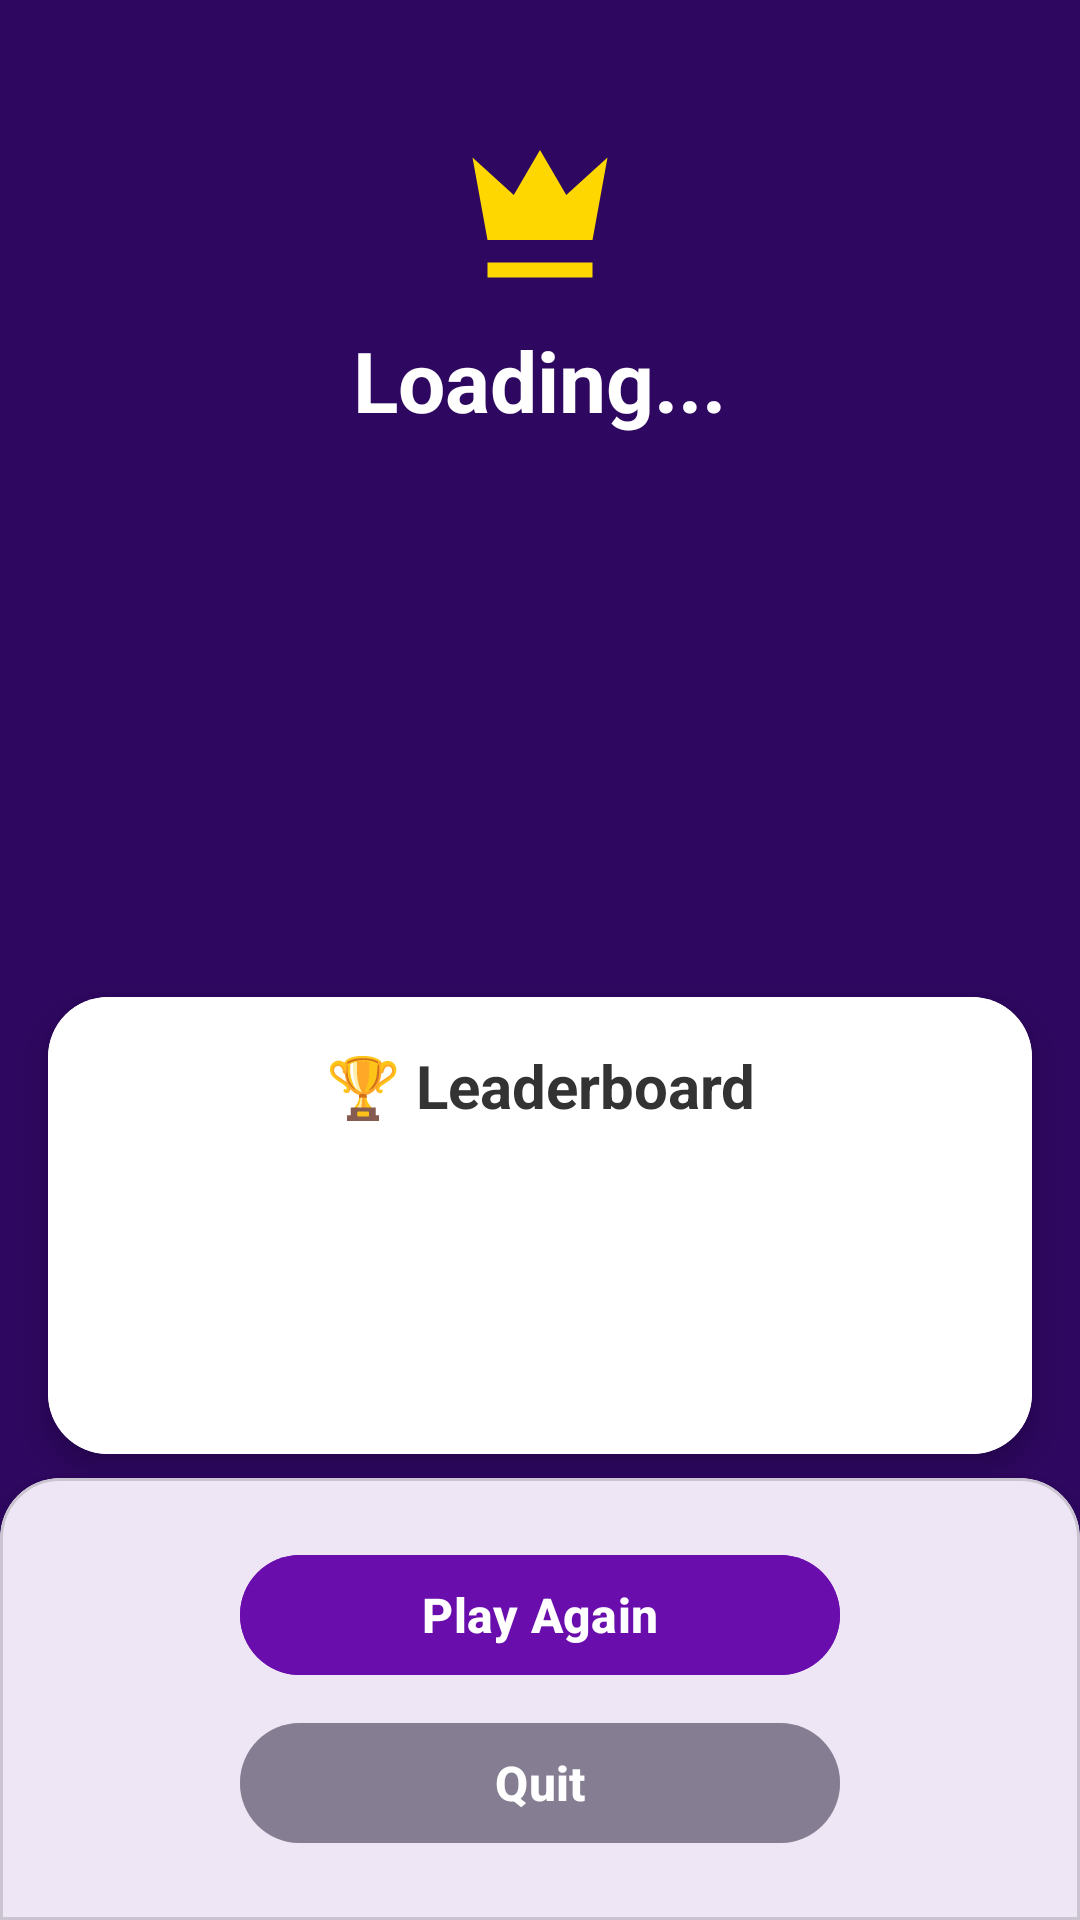

Icon click points for this 1080w x 1920h phone screenshot, format (x,y):
crown: (540,214)
